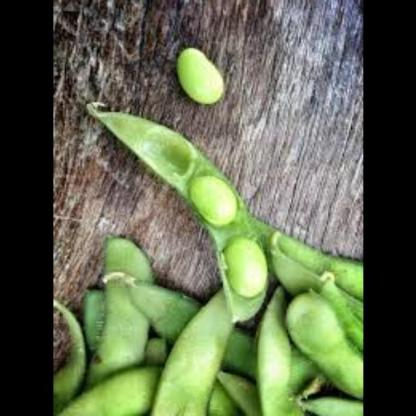beans: (53, 102, 363, 416), (162, 148, 274, 312), (155, 34, 235, 121)
